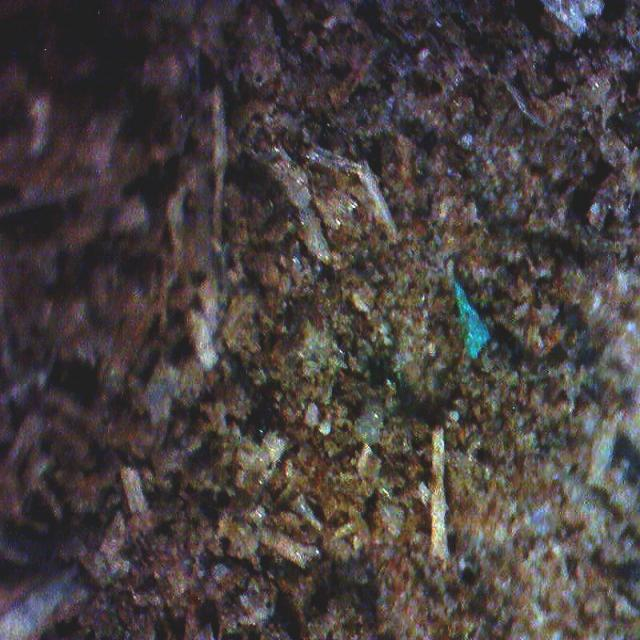microplastic: (455, 281, 490, 358)
